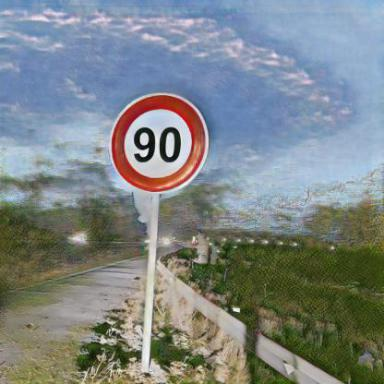Speed_limit_90: (113, 94, 205, 191)
